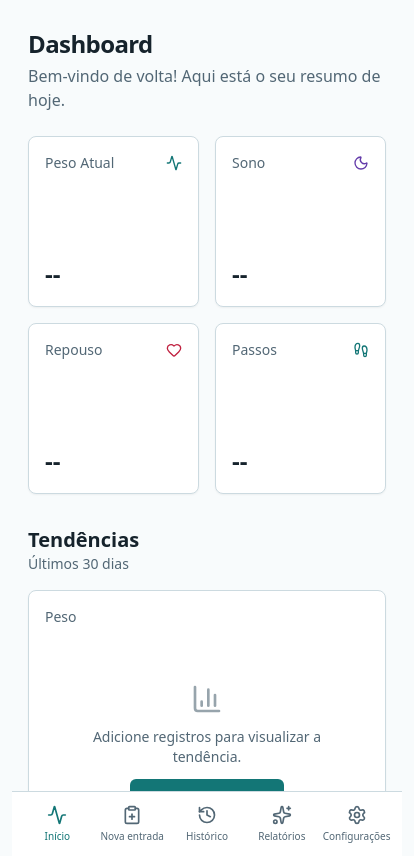
App › renders the reports controls instead of the placeholder when opening reports
Click the link "Relatórios" at (282, 824), box [258,804,306,842]
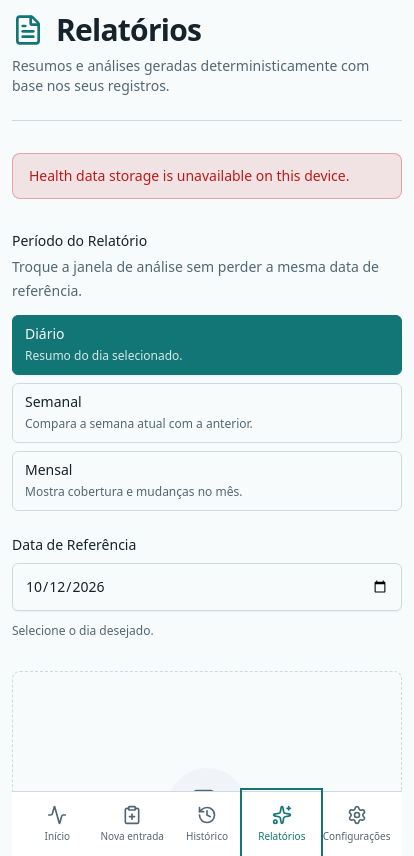
Check: the heading "Relatórios" is shown, box [12,12,201,50]
Check: the date field labelled "Data de Referência" is shown, box [12,563,402,611]
Check: the button "Diário Resumo do dia selecionado." is shown, box [12,315,402,375]
